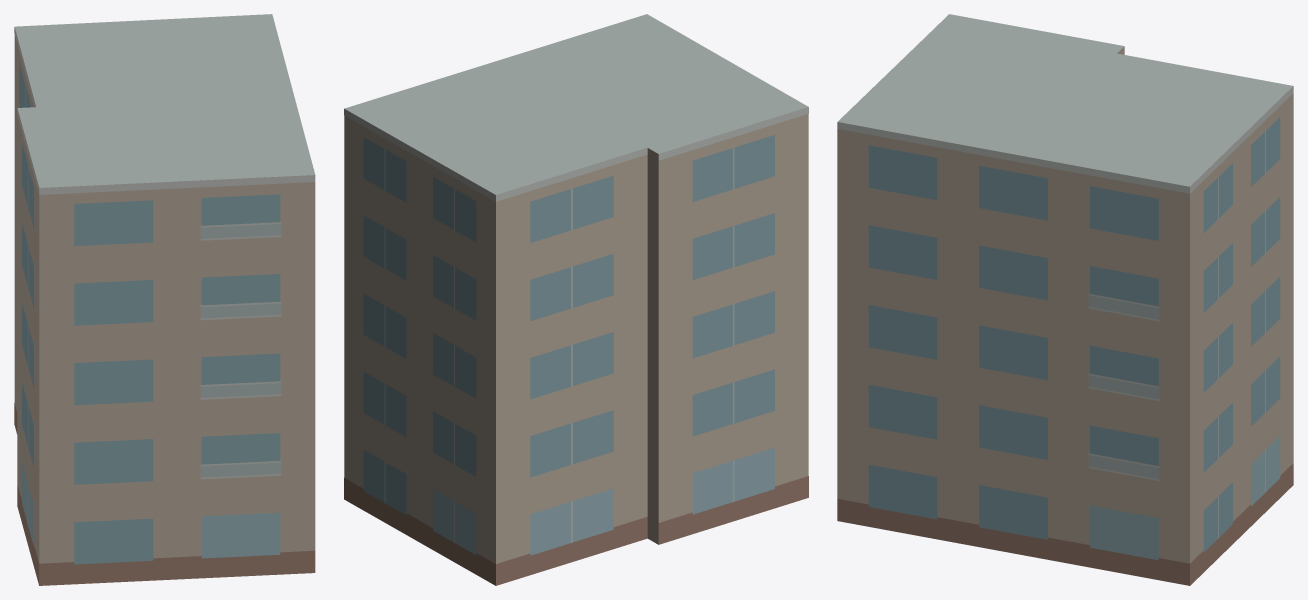
Rendered from survey-upis-32994504.glb.
3 views of the same model, side by side, from view 1: azimuth 30°, elevation 25°; view 2: azimuth 150°, elevation 25°; view 3: azimuth 270°, elevation 25° (orthographic). The views are drawn at different scales.
Parts seen in each view (by area): view 1: survey-upis-32994504.tmp; view 2: survey-upis-32994504.tmp; view 3: survey-upis-32994504.tmp.
Boxes of the visible parts, x1,y1,x2,y2 form: survey-upis-32994504.tmp: [14, 14, 315, 585]; survey-upis-32994504.tmp: [344, 14, 808, 585]; survey-upis-32994504.tmp: [837, 14, 1293, 585].
Bounding box in the file's own units: 13.01 × 14 × 14.51.
